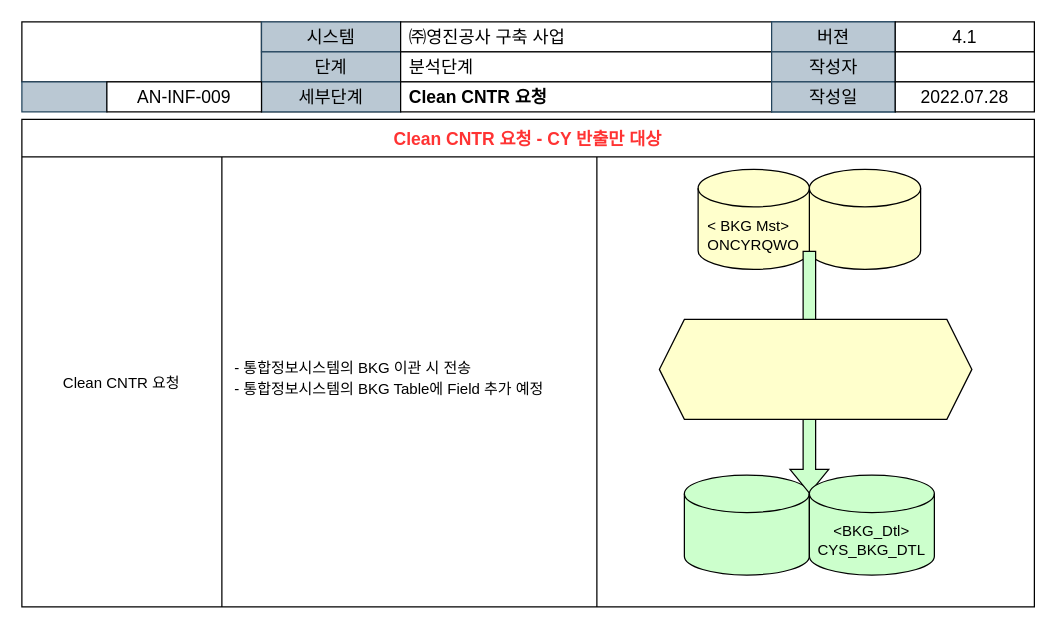
The diagram is 1056 pixels wide and 629 high, and some of its shapes have lost their labels. The shapes that lost their labels are listed below. From the top down, each one's centre as x and y in pixels, then its label:
At (141,51): "DATA Interface 정의서".
At (964,66): "박철규".
At (64,96): "문서번호".
At (864,218): "<BKG Dtl> ONCYRQDT".
At (815,368): "통합정보시스템에서 신규 Field 추가 => 이관시 TOS에 반영".
At (746,524): "<BKG Mst> CYS_BKG_MST".
